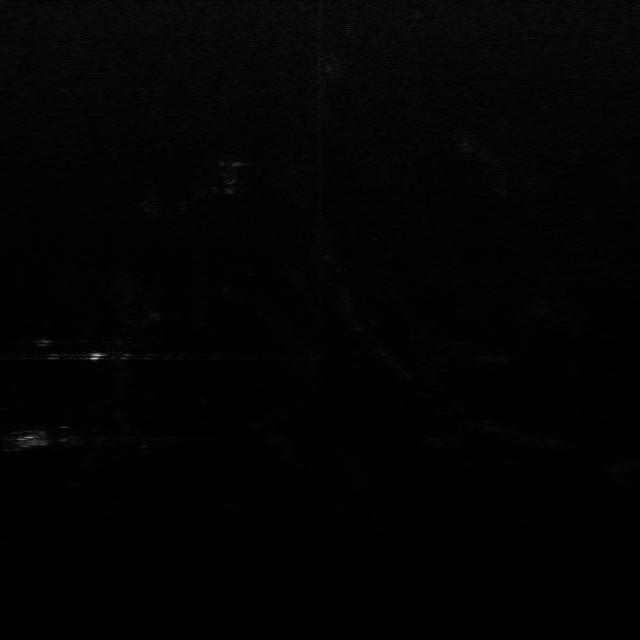rov: (11, 430, 58, 452)
